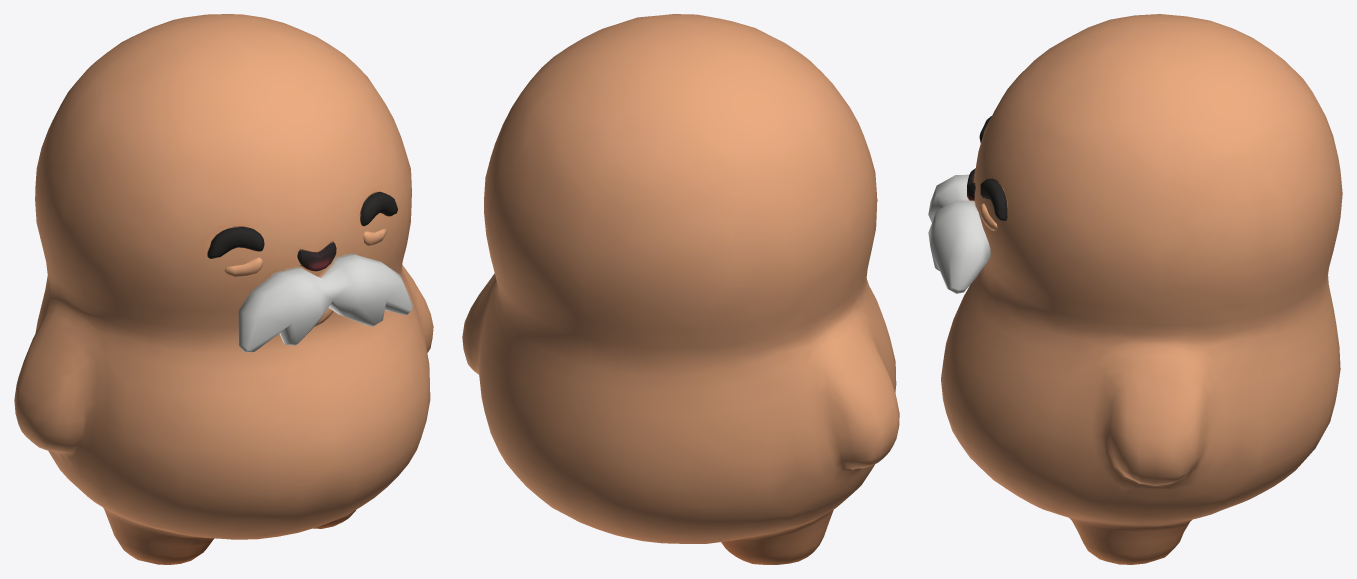
Rendered from asset_pack_item_glb-vd7d0dcraj58ycbcm7n9arqjjx8bztjr-11-ks76sa99yeb11dbq98xyyjqepx8byrdm.glb.
3 renders of one model, left to right at view 1: azimuth 30°, elevation 25°; view 2: azimuth 150°, elevation 25°; view 3: azimuth 270°, elevation 25°, orthographic. The views are drawn at different scales.
Visible parts, largest first — view 1: adult-secret; view 2: adult-secret; view 3: adult-secret.
Boxes of the visible parts, bbox=[...] form: adult-secret: bbox=[14, 14, 433, 564]; adult-secret: bbox=[462, 14, 899, 564]; adult-secret: bbox=[928, 14, 1342, 564].
Bounding box in the file's own units: 0.8535 × 0.998 × 0.7754.
Materials: 1 (1 with a texture image).
